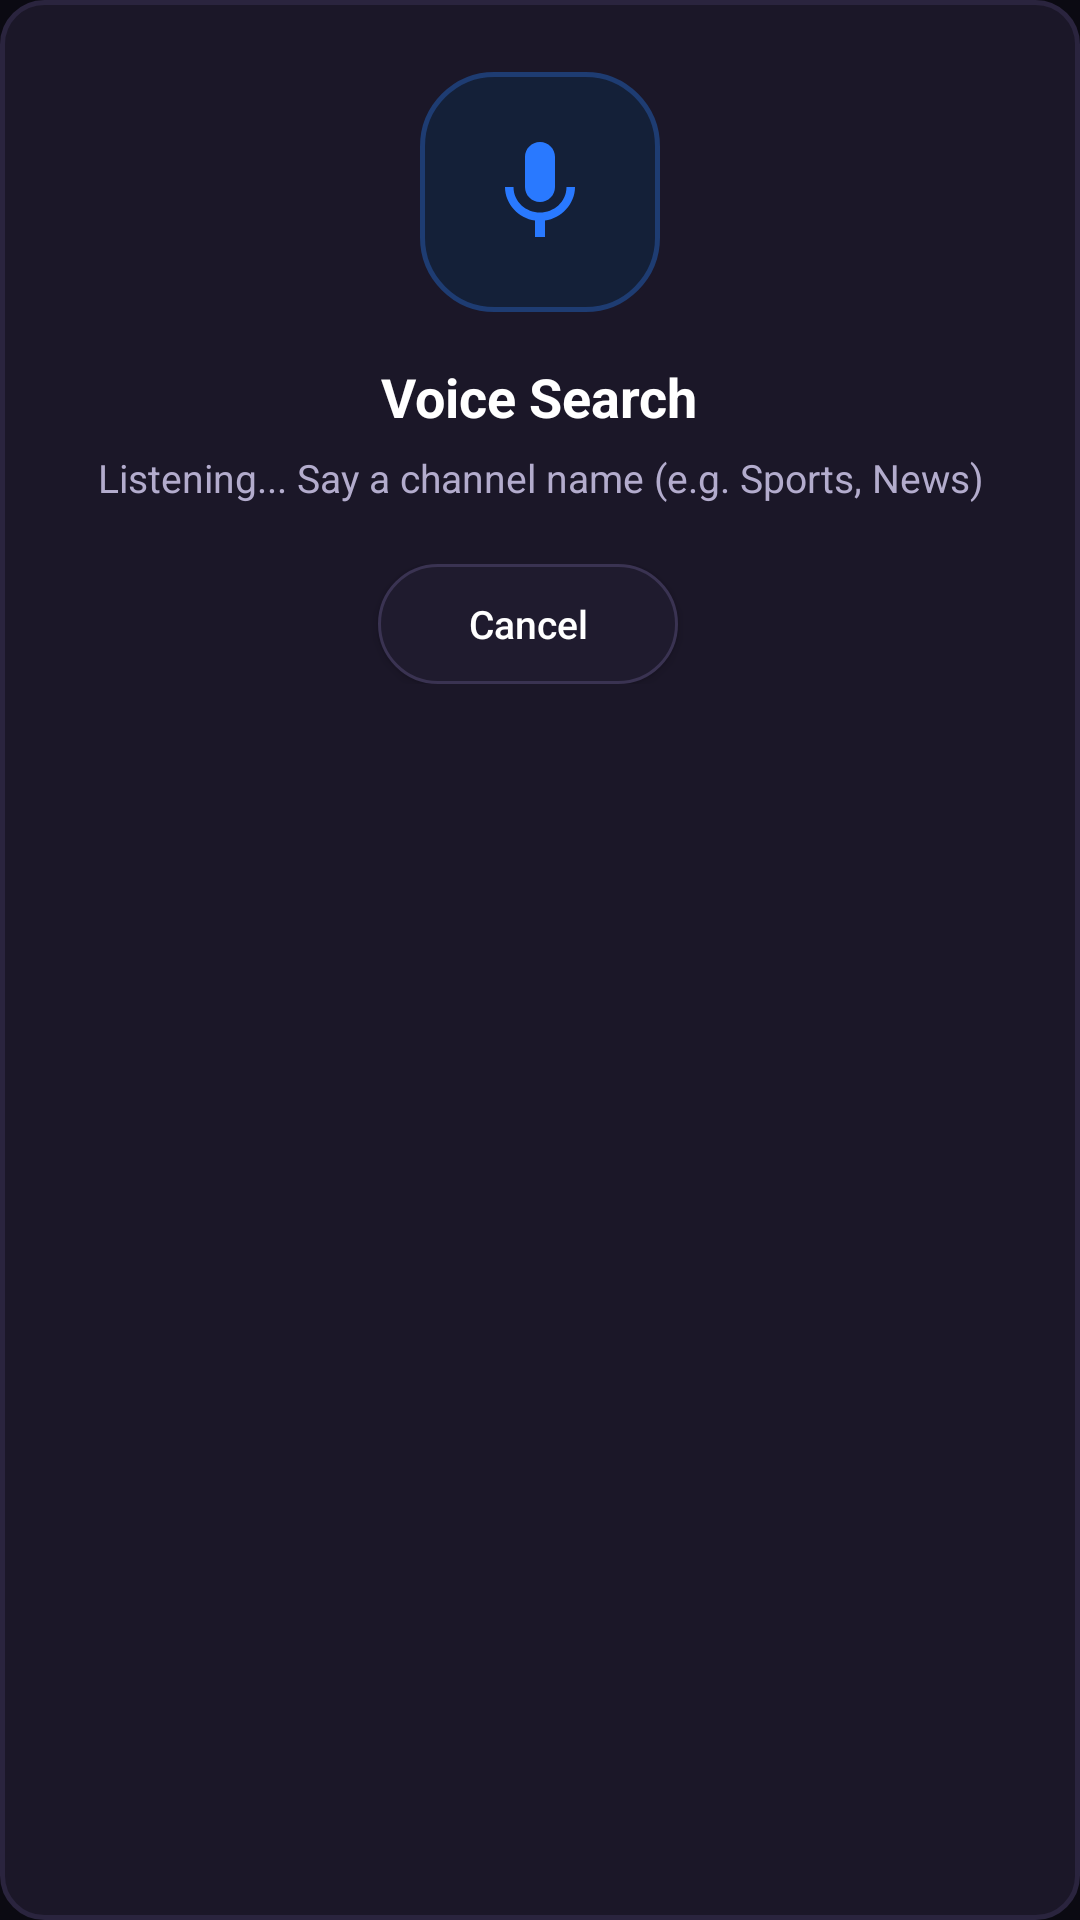

Icons on this 1080 x 1920 Android screen, each with its box as (x1, y1, x2, y2):
Microphone: (505, 142, 575, 237)
